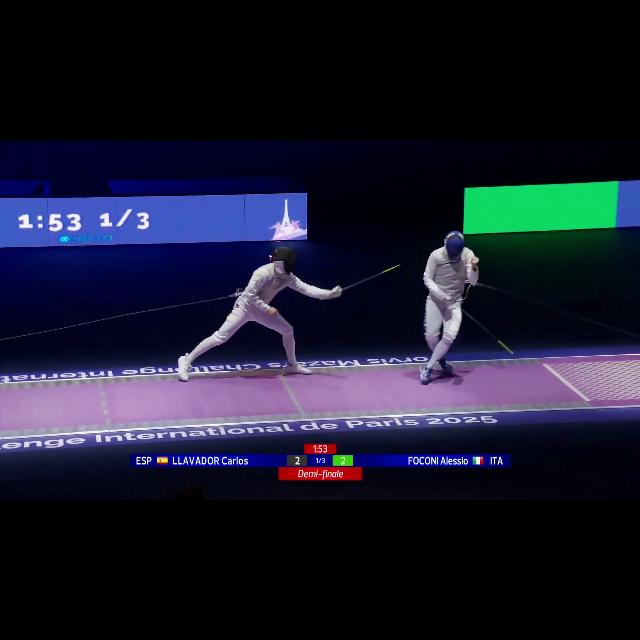blade: (444, 294, 516, 358), (332, 262, 402, 296)
